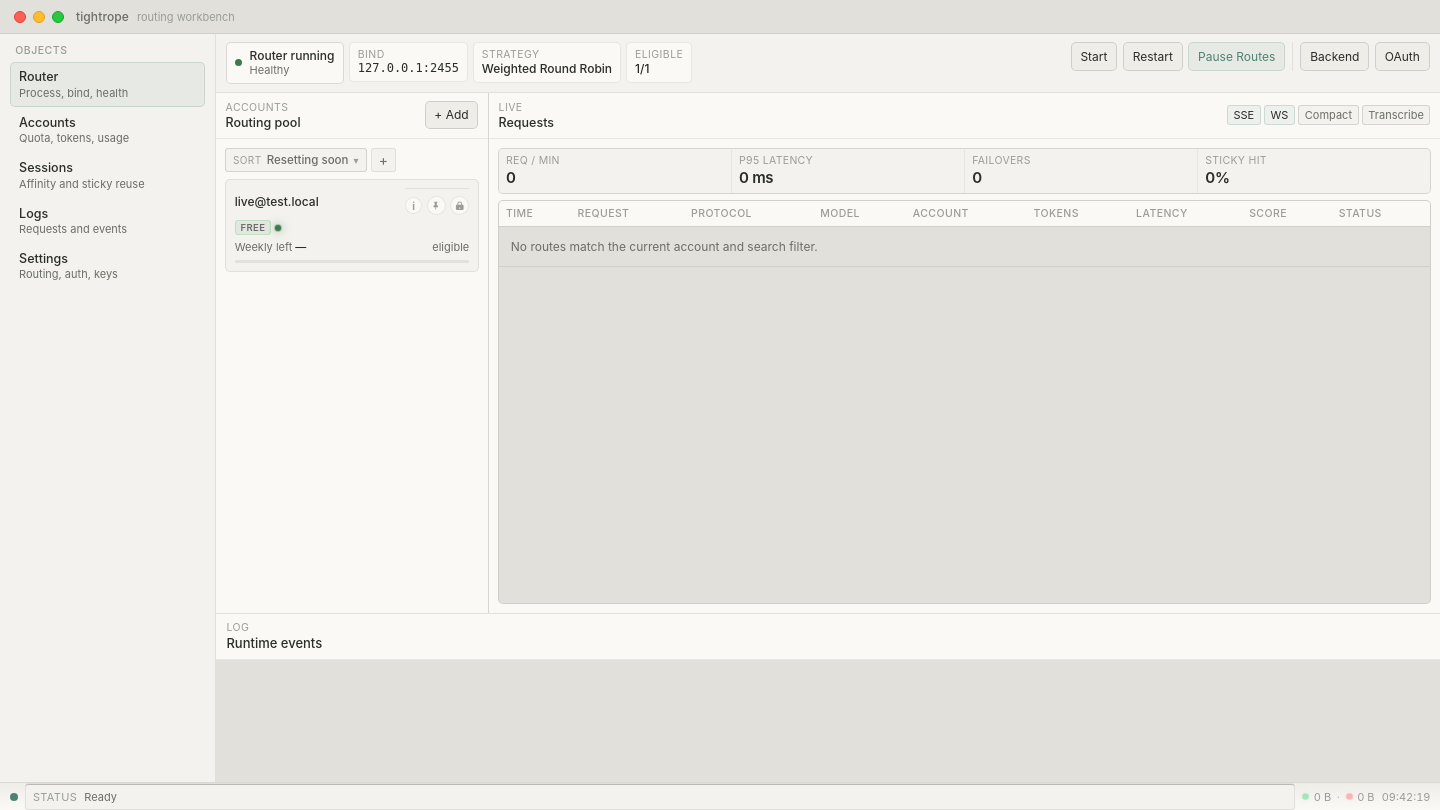
Test case: App › hydrates sessions page from runtime sticky sessions
The width and height of the screenshot is (1440, 810).
Click the button "Sessions Affinity and sticky reuse". click: (108, 175)
box: [10,153,205,198]
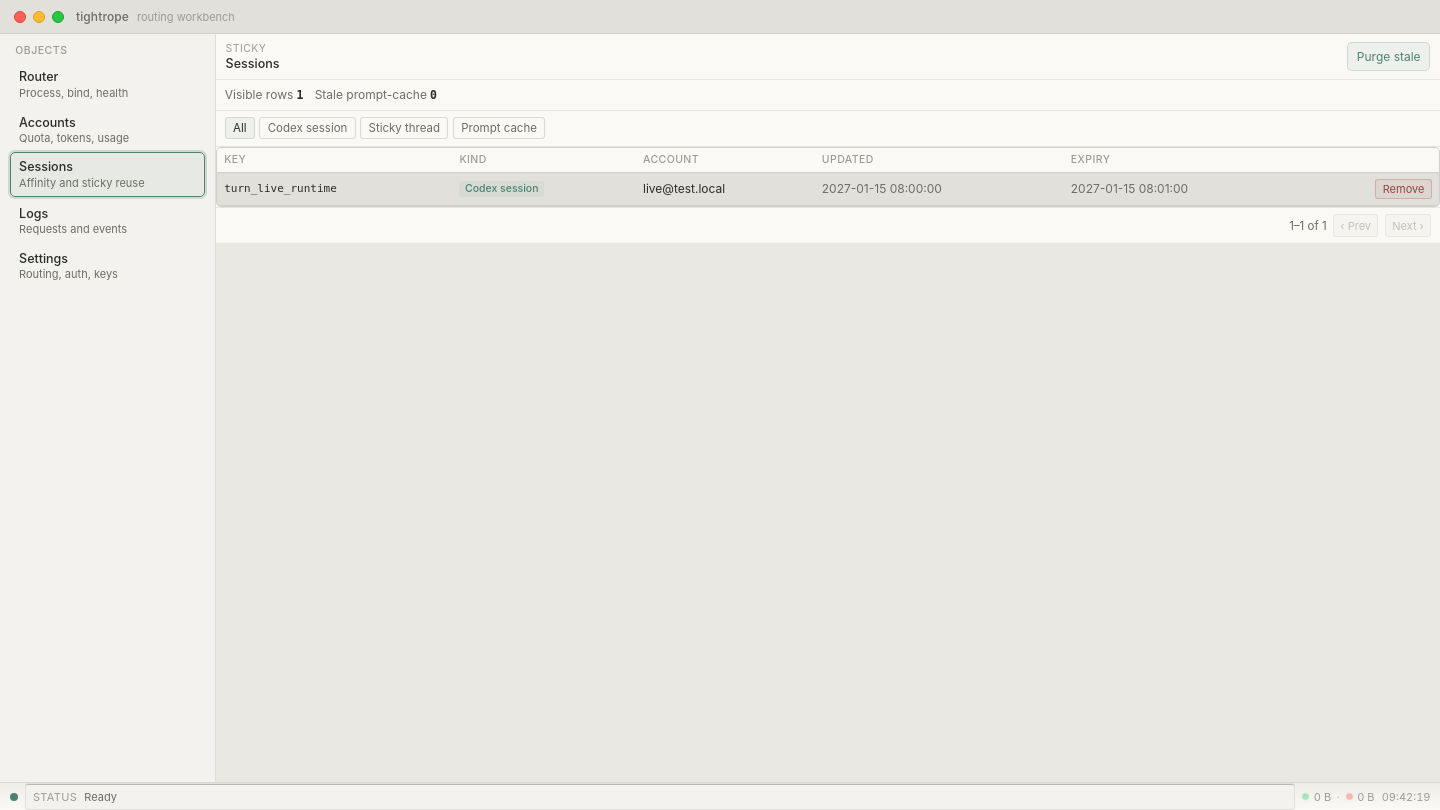
expect the cell titled "turn_live_runtime" is shown: met, box [217,172,452,206]
